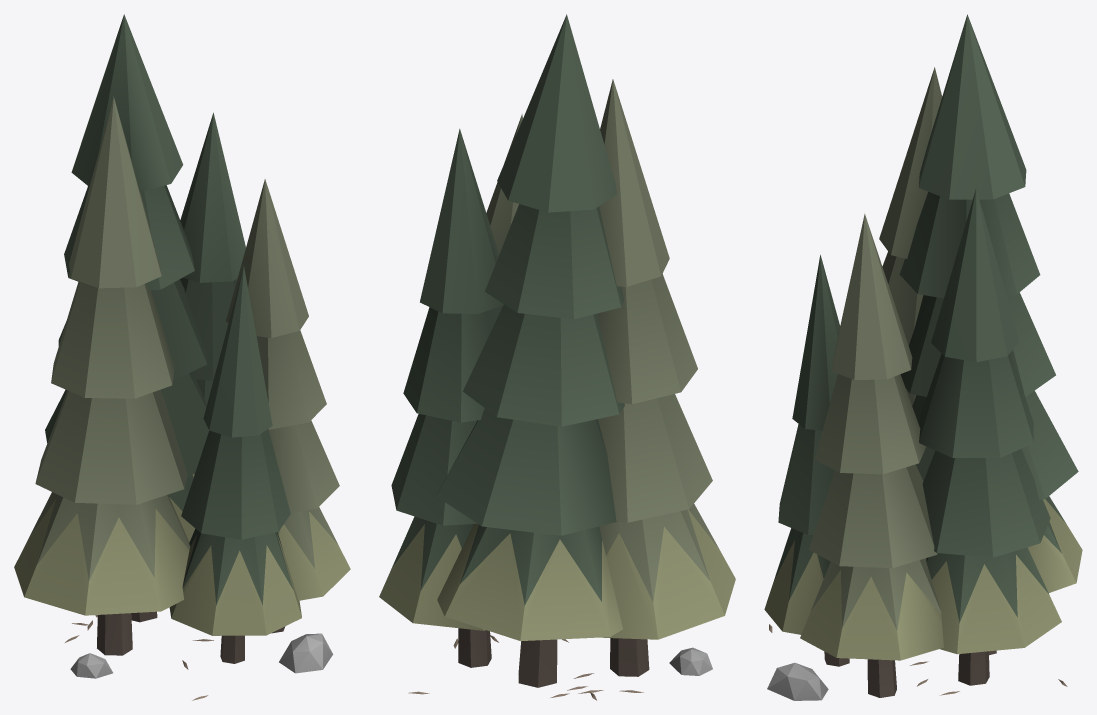
File: pines.glb
3 views of the same model, side by side, from view 1: azimuth 30°, elevation 25°; view 2: azimuth 150°, elevation 25°; view 3: azimuth 270°, elevation 25° (orthographic). The views are drawn at different scales.
Visible parts, largest first — view 1: pines; view 2: pines; view 3: pines.
Part boxes in pixels (left/top/right/bottom): pines: left=14, top=14, right=350, bottom=700; pines: left=379, top=14, right=735, bottom=700; pines: left=764, top=14, right=1082, bottom=700.
Bounding box in the file's own units: 4.57 × 8.99 × 4.15.
